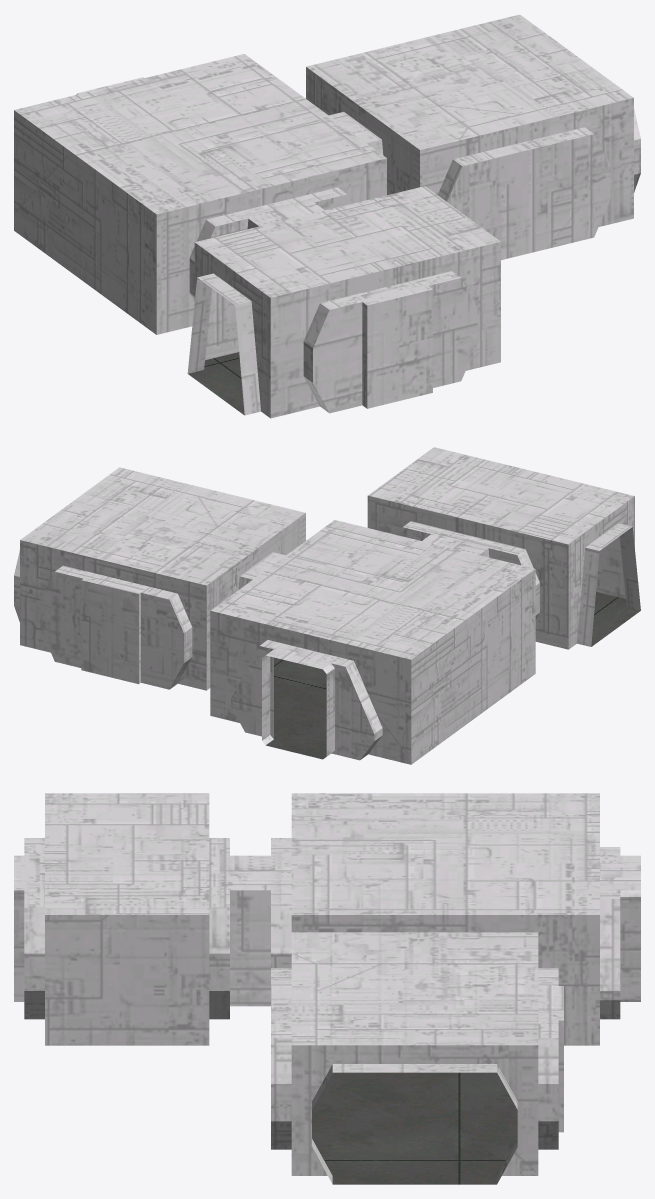
File: thm_spc_star_destroyer_s01_r28_hallway09_mesh_r28.fbx
3 views of the same model, one above another, from view 1: azimuth 30°, elevation 25°; view 2: azimuth 150°, elevation 25°; view 3: azimuth 270°, elevation 25° (orthographic). The views are drawn at different scales.
Parts seen in each view (by area): view 1: mesh_node; view 2: mesh_node; view 3: mesh_node.
Part boxes in pixels (x1,y1,x2,y2): mesh_node: (14, 14, 640, 418); mesh_node: (14, 447, 640, 764); mesh_node: (14, 793, 640, 1184).
Size of the model in its own units: 15.5 by 3.5 by 15.25.
Materials: 2 (2 with a texture image).
